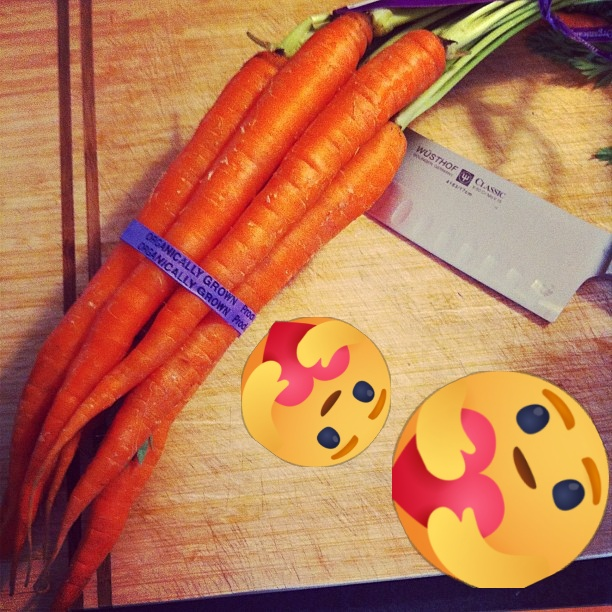care: (392, 371, 609, 588), (241, 317, 391, 467)
